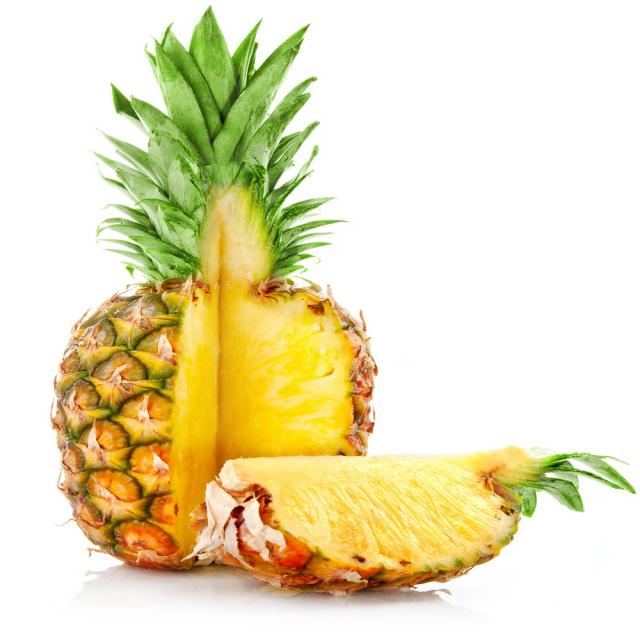pineapple: (45, 105, 363, 457), (193, 447, 630, 603)
